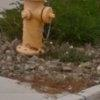a fire hydrant: (15, 0, 55, 56)
